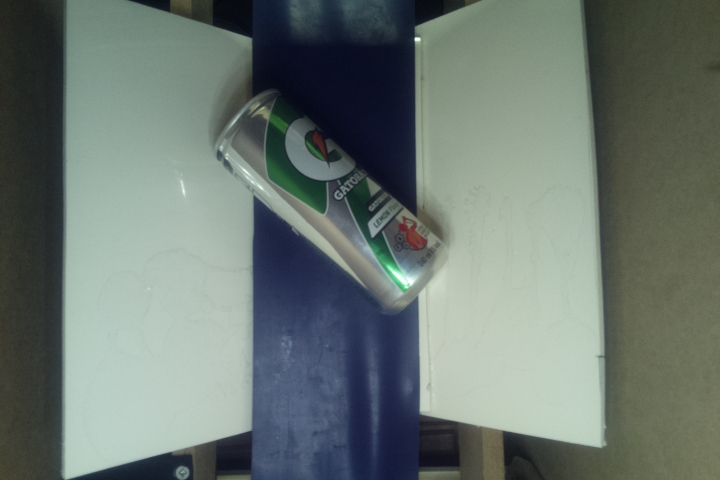can: (213, 86, 446, 316)
